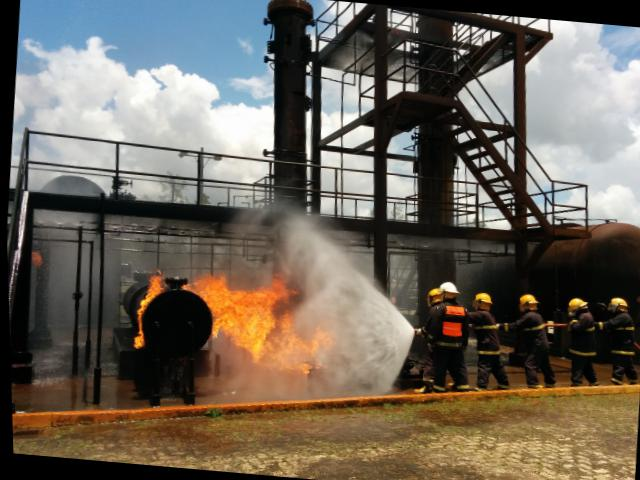fire: (125, 265, 328, 391)
